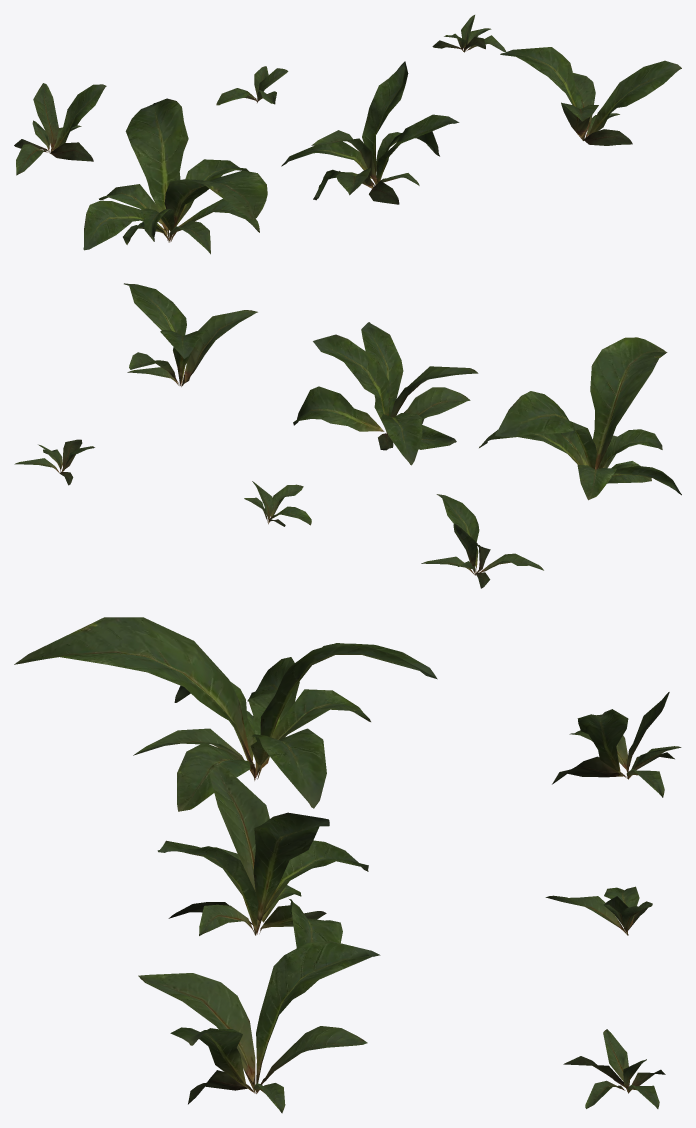
File: anthurium_botany_01.glb
3 renders of one model, top to bottom at view 1: azimuth 30°, elevation 25°; view 2: azimuth 150°, elevation 25°; view 3: azimuth 270°, elevation 25°, orthographic. The views are drawn at different scales.
Parts seen in each view (by area): view 1: anthurium_botany_01_a; view 2: anthurium_botany_01_a; view 3: anthurium_botany_01_a.
Part boxes in pixels (<box>): anthurium_botany_01_a: <box>14,15,681,254</box>; anthurium_botany_01_a: <box>14,283,681,588</box>; anthurium_botany_01_a: <box>14,617,681,1113</box>.
Size of the model in its own units: 2.79 by 0.498 by 1.8.
1 material, 1 textured.
